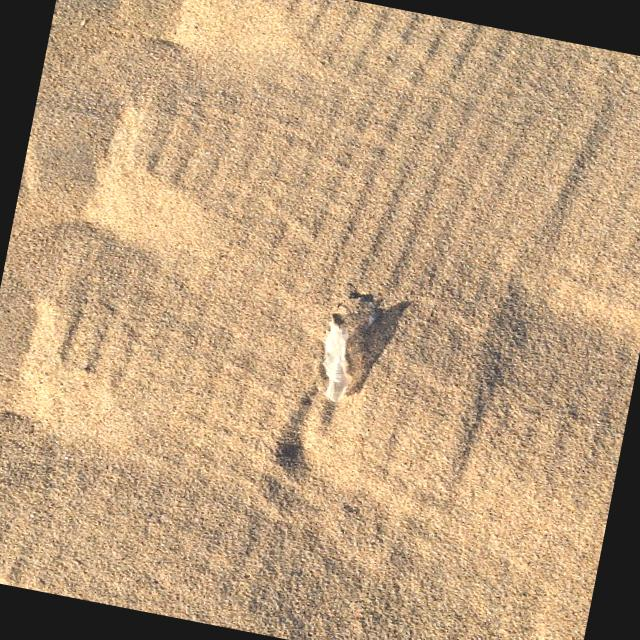Trash: (308, 317, 364, 407)
